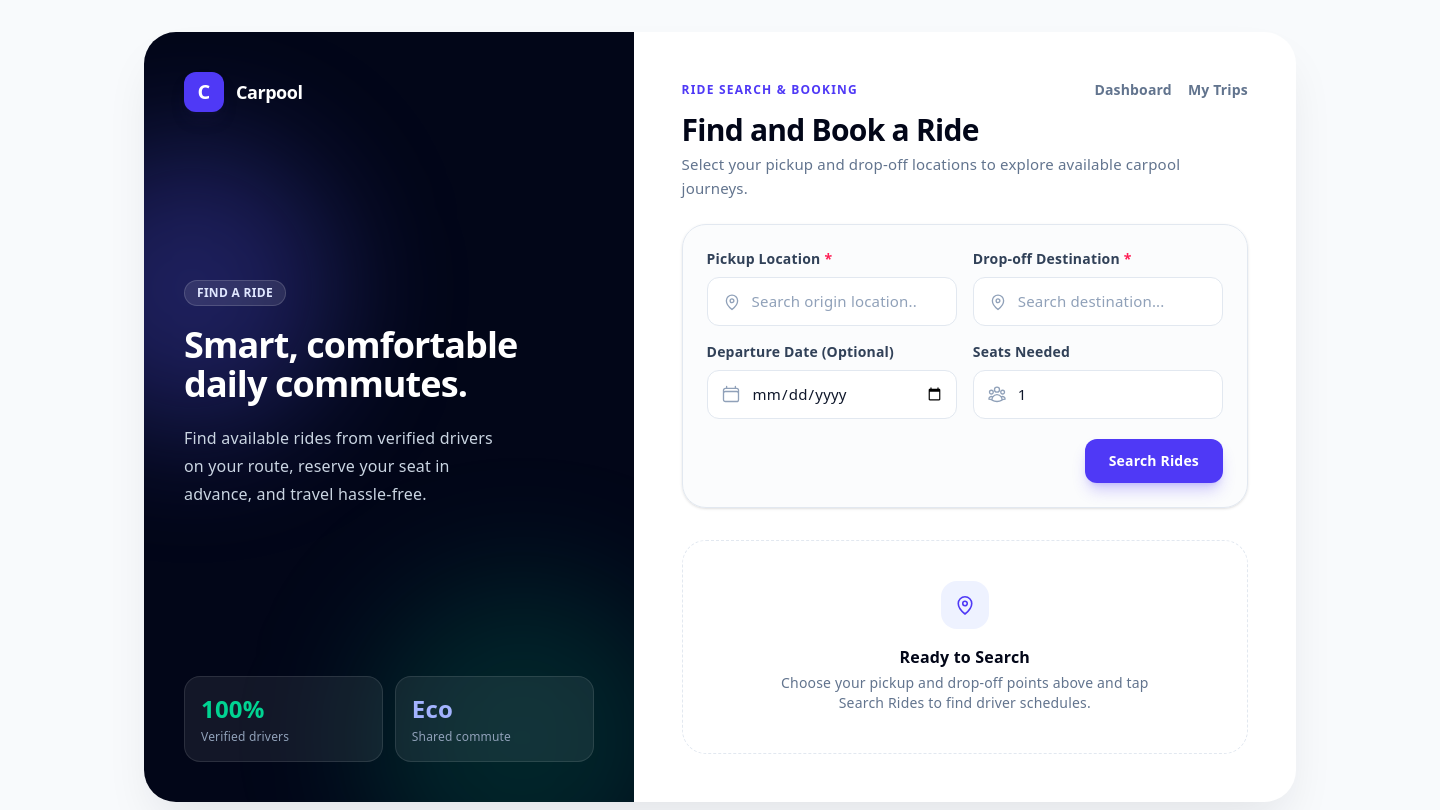
it: BookRidePage › performs search, lists available trips, and handles booking modal
// Select source location
Click the dropdown with placeholder "Search origin location...": x=832, y=302 [708,278,956,325]
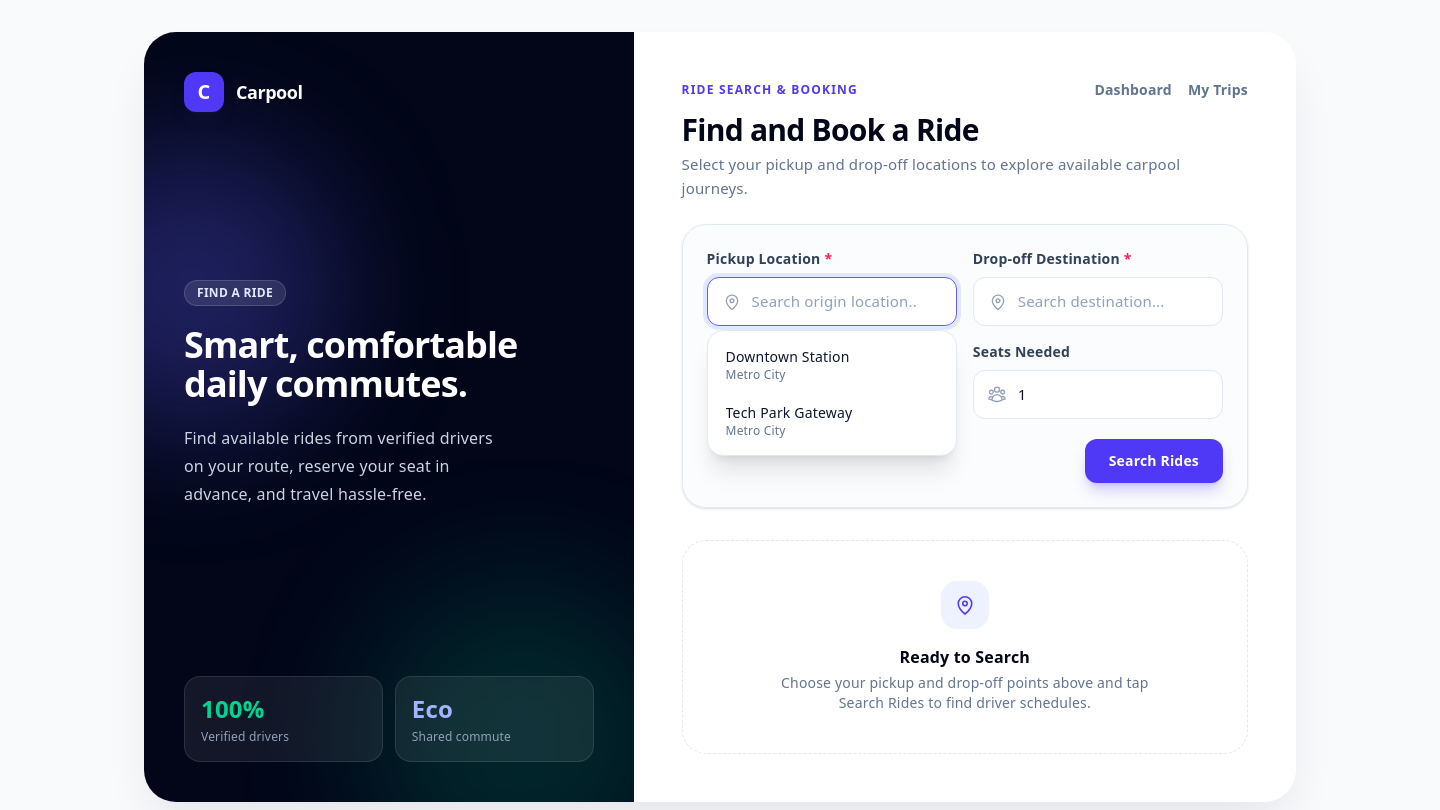
Click the text "Downtown Station": x=788, y=357 [726,347,850,367]
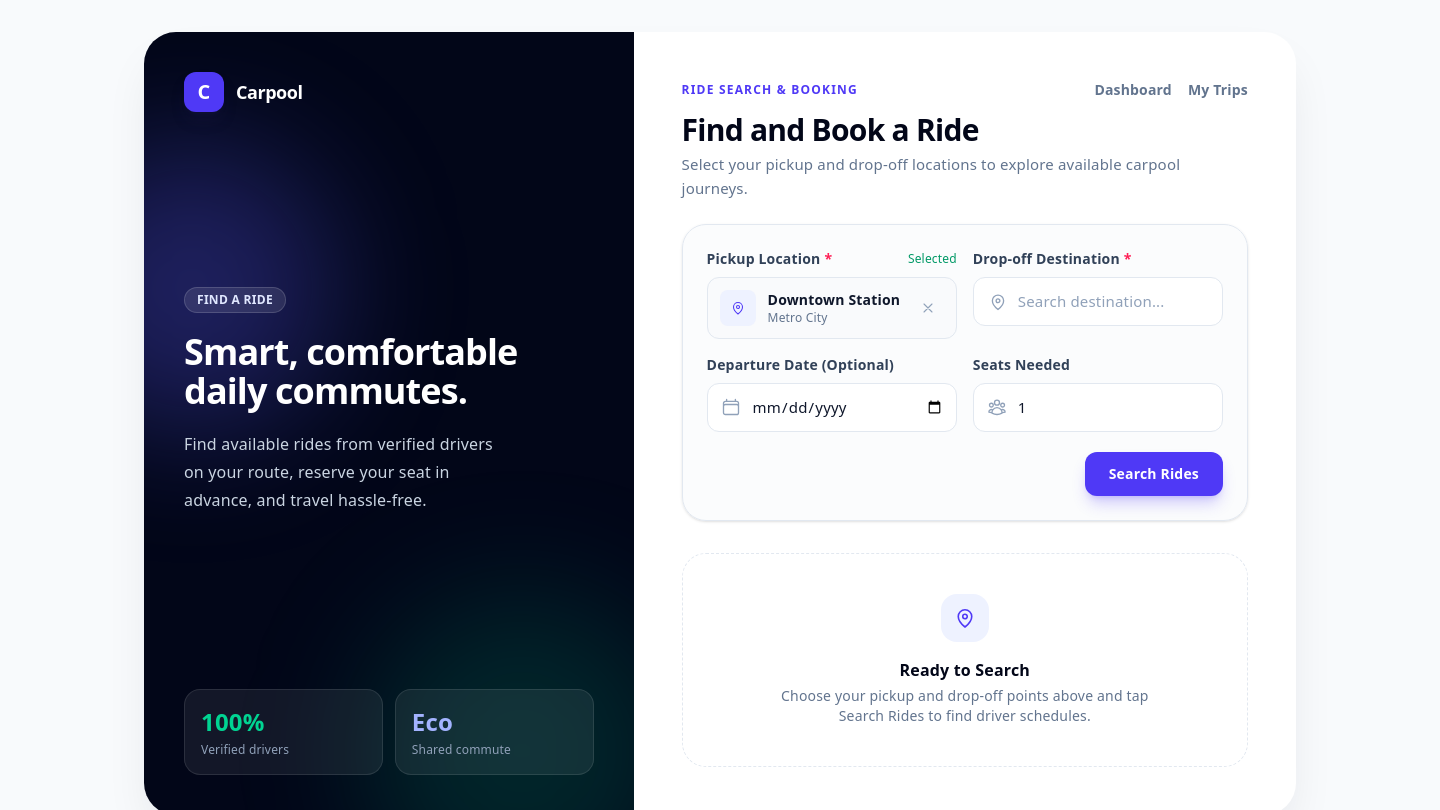
// Select destination location
Click the dropdown with placeholder "Search destination...": x=1098, y=302 [974,278,1222,325]
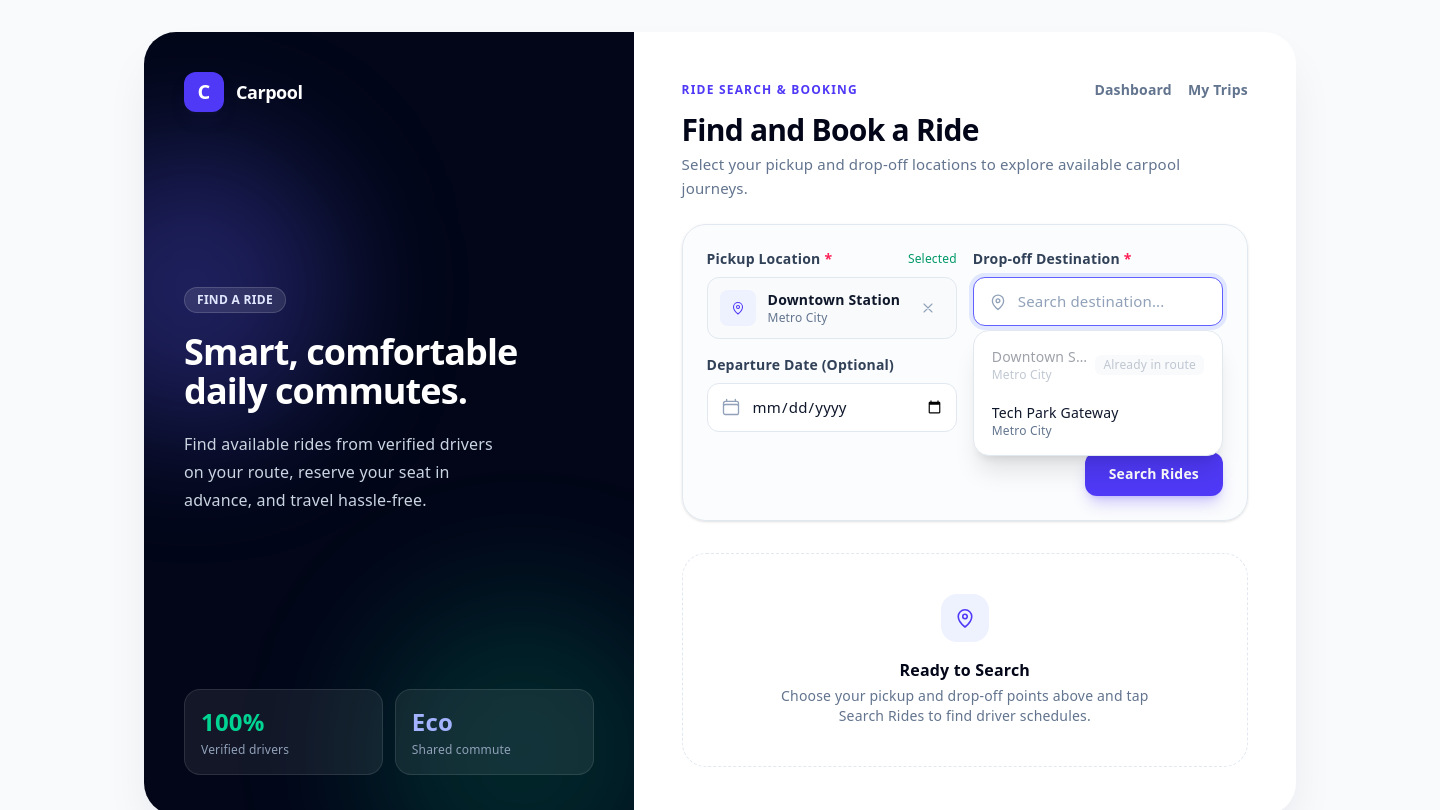
Click the text "Tech Park Gateway": x=1055, y=413 [992,403,1118,423]
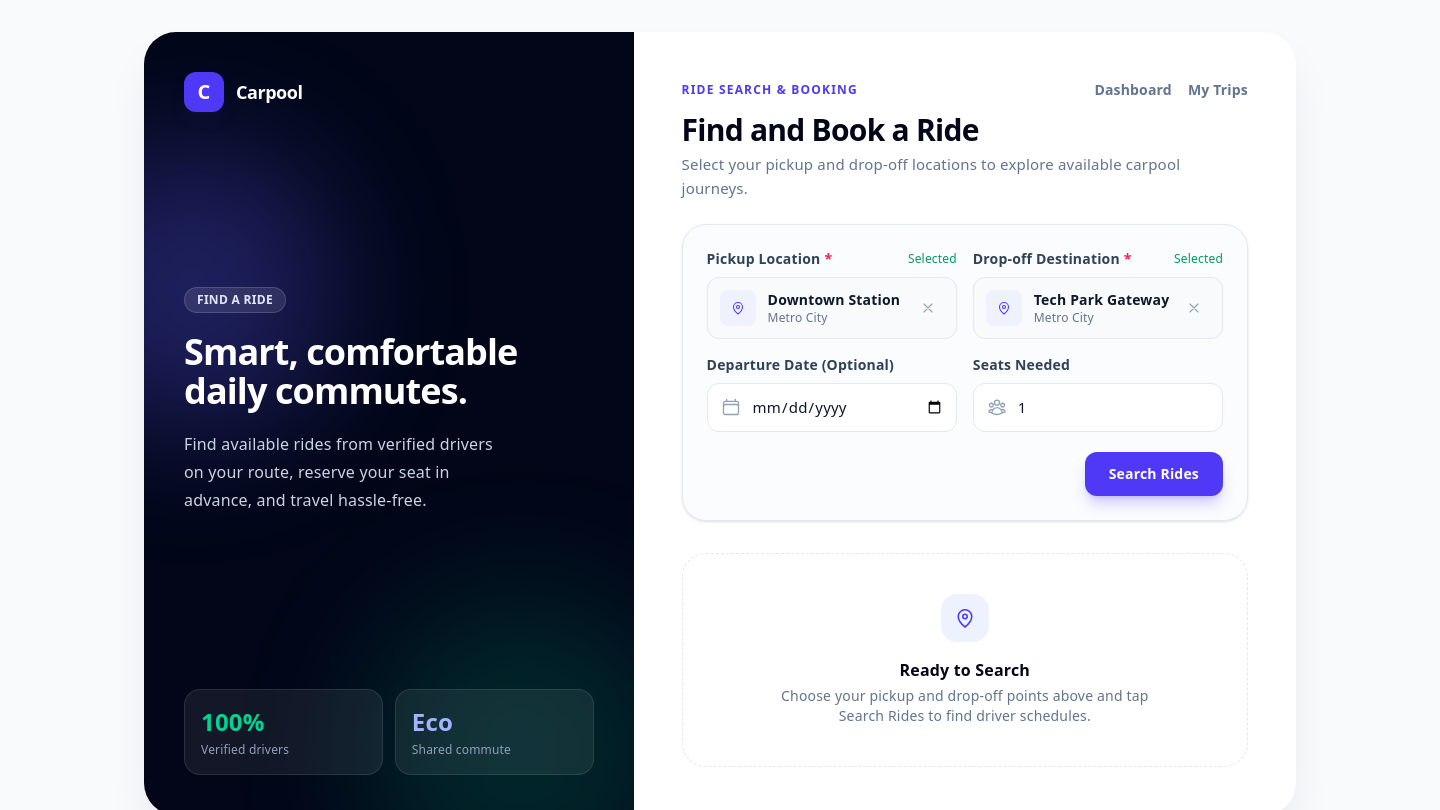
// Click Search Rides
Click the button "Search Rides": x=1154, y=474 [1085,452,1223,496]
(page scrolled)
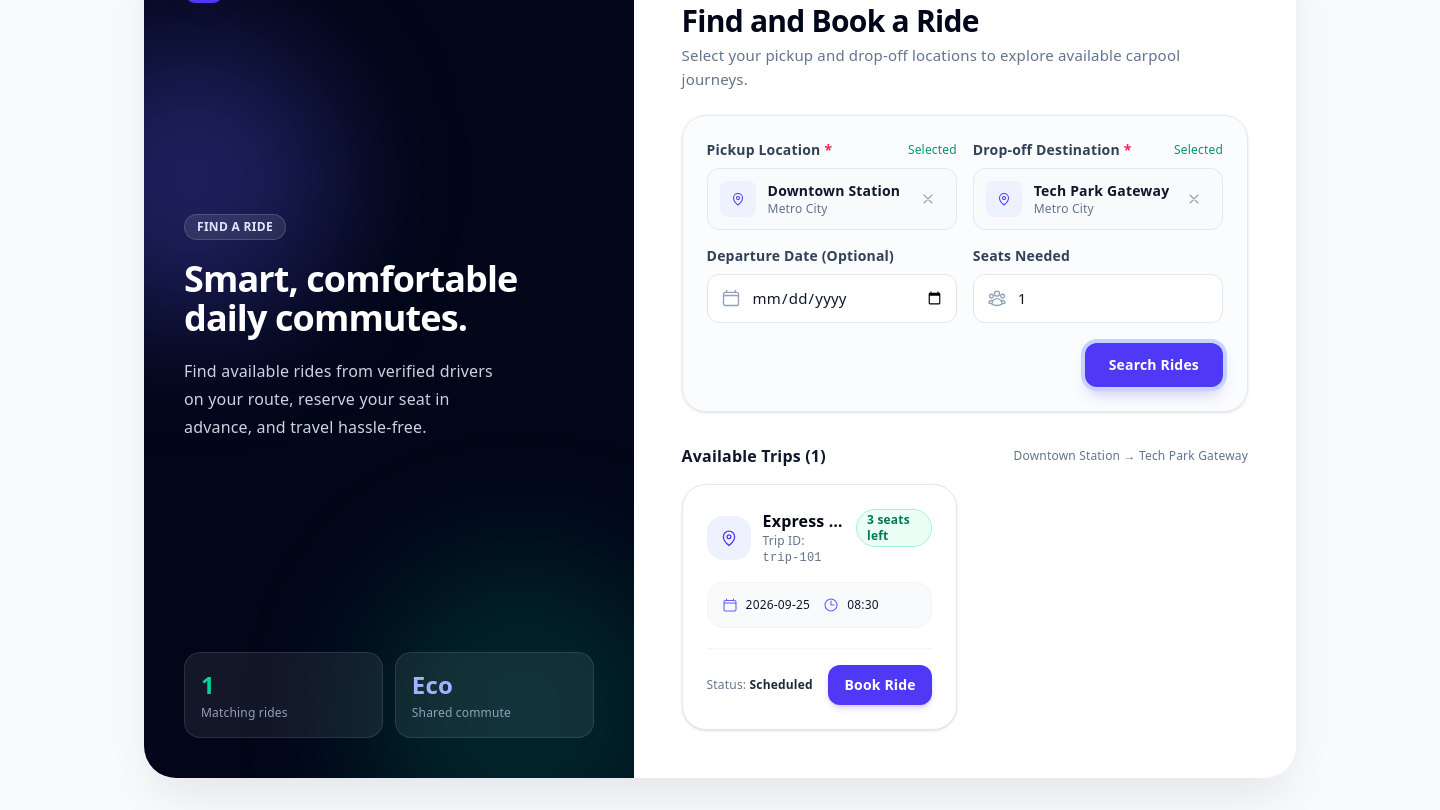
Check: the heading "Available Trips (1)" is shown, box [682,444,826,468]
Check: the heading "Express Line A" is shown, box [763,509,844,533]
Check: the text "3 seats left" is shown, box [856,509,932,547]
// Click Book Ride to open confirmation popup
Click the button "Book Ride": x=880, y=685 [828,665,932,705]
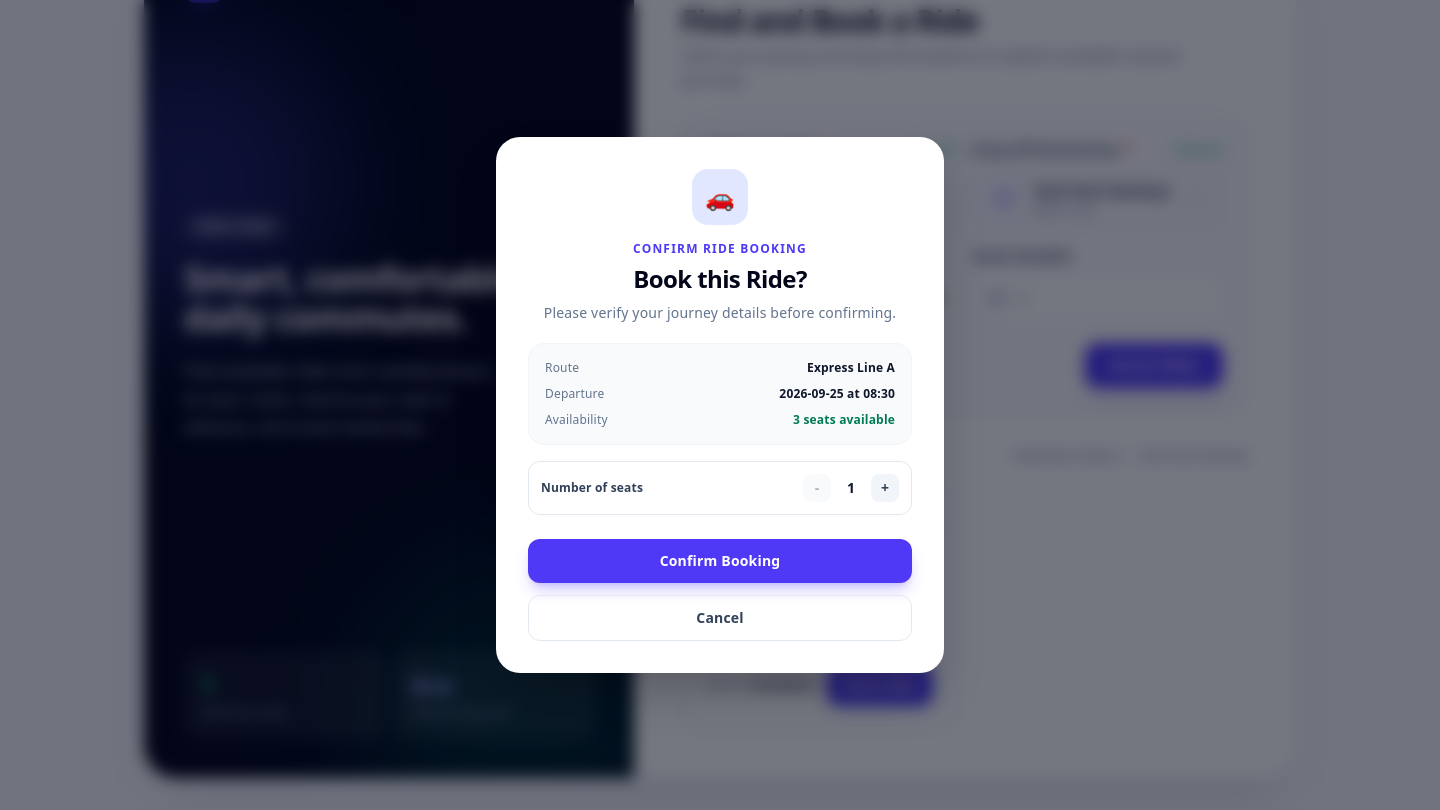
Check: the heading "Book this Ride?" is shown, box [633,262,807,295]
Check: the button "Confirm Booking" is shown, box [528,539,912,583]
